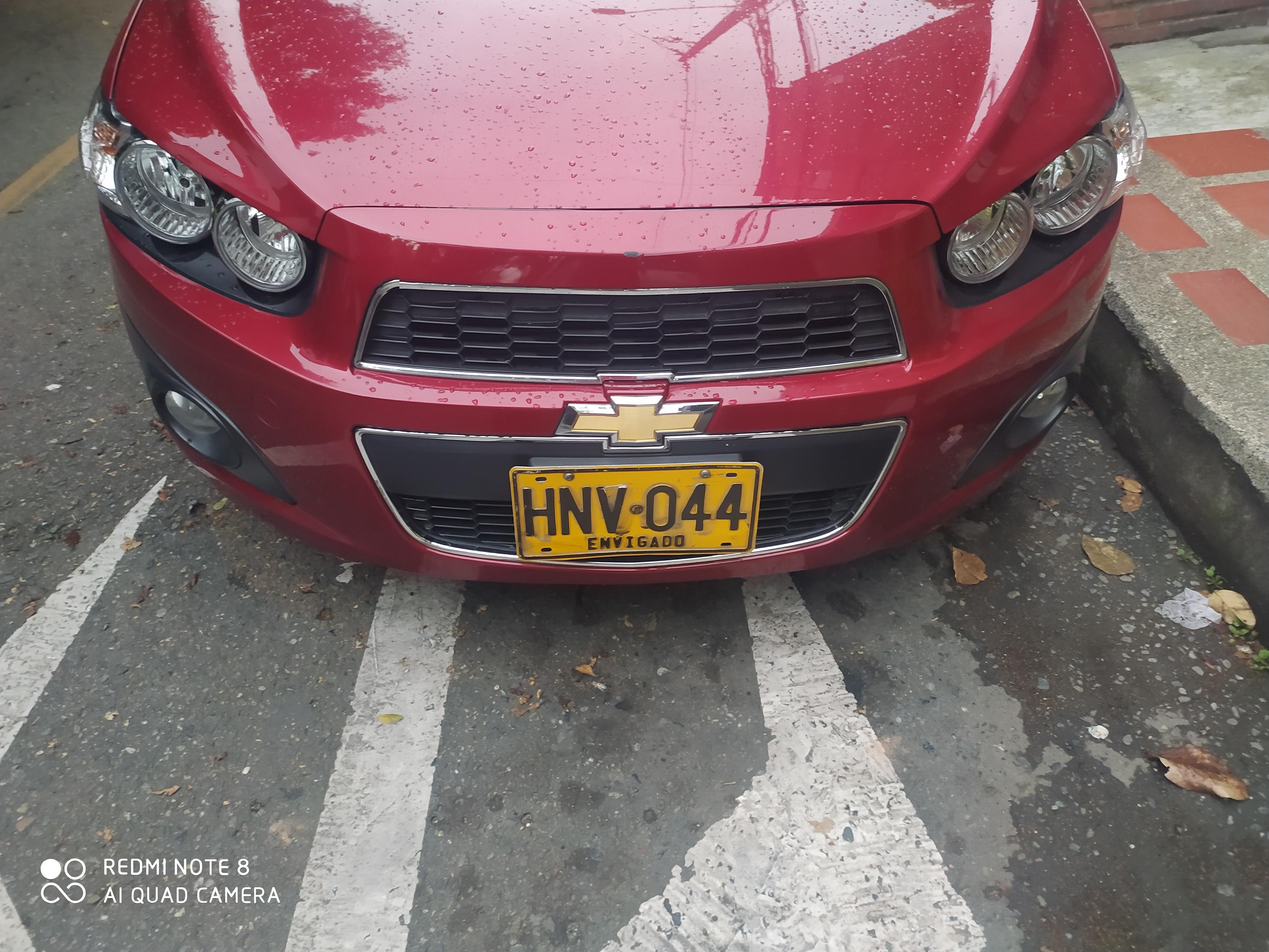placa: (495, 456, 780, 575)
